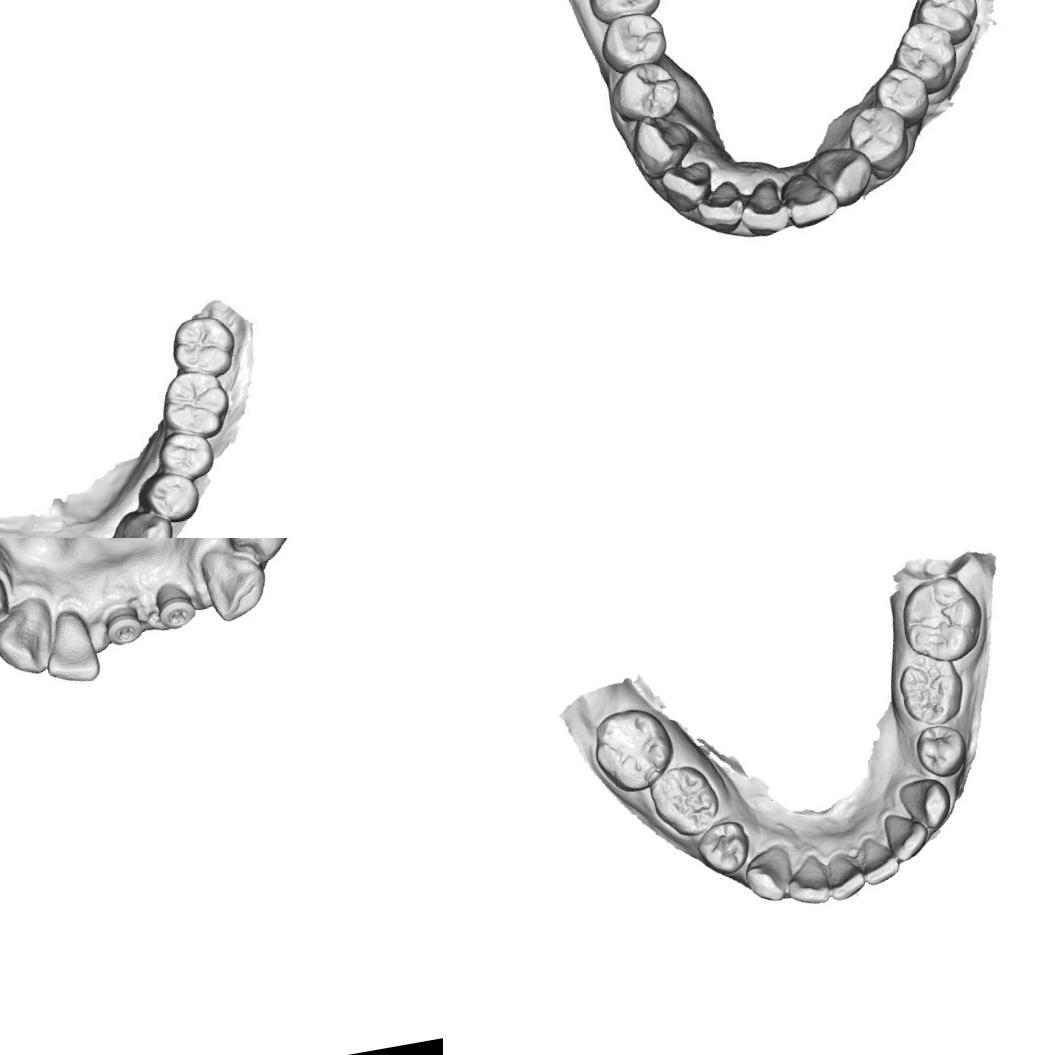canine: (196, 539, 274, 619), (0, 596, 58, 674), (628, 109, 695, 176), (814, 142, 875, 209), (740, 840, 798, 906), (894, 773, 955, 833), (119, 501, 182, 538)
implant_minus: (146, 569, 206, 644), (98, 592, 152, 654)
incisor: (38, 602, 104, 683), (738, 170, 792, 240), (657, 156, 717, 216), (779, 849, 834, 912), (692, 178, 750, 237), (782, 164, 835, 227), (880, 806, 933, 864), (818, 852, 870, 903), (856, 840, 902, 886)
molar: (893, 570, 992, 669), (584, 701, 679, 799), (644, 758, 725, 842), (154, 362, 235, 442), (893, 650, 970, 732), (892, 15, 967, 90), (165, 308, 242, 380), (913, 0, 979, 40), (582, 0, 666, 19)
premolar: (604, 57, 684, 126), (594, 7, 671, 75), (842, 102, 910, 179), (693, 815, 754, 882), (871, 62, 932, 128), (152, 426, 219, 486), (141, 466, 205, 528), (910, 718, 972, 782), (222, 538, 299, 567)
